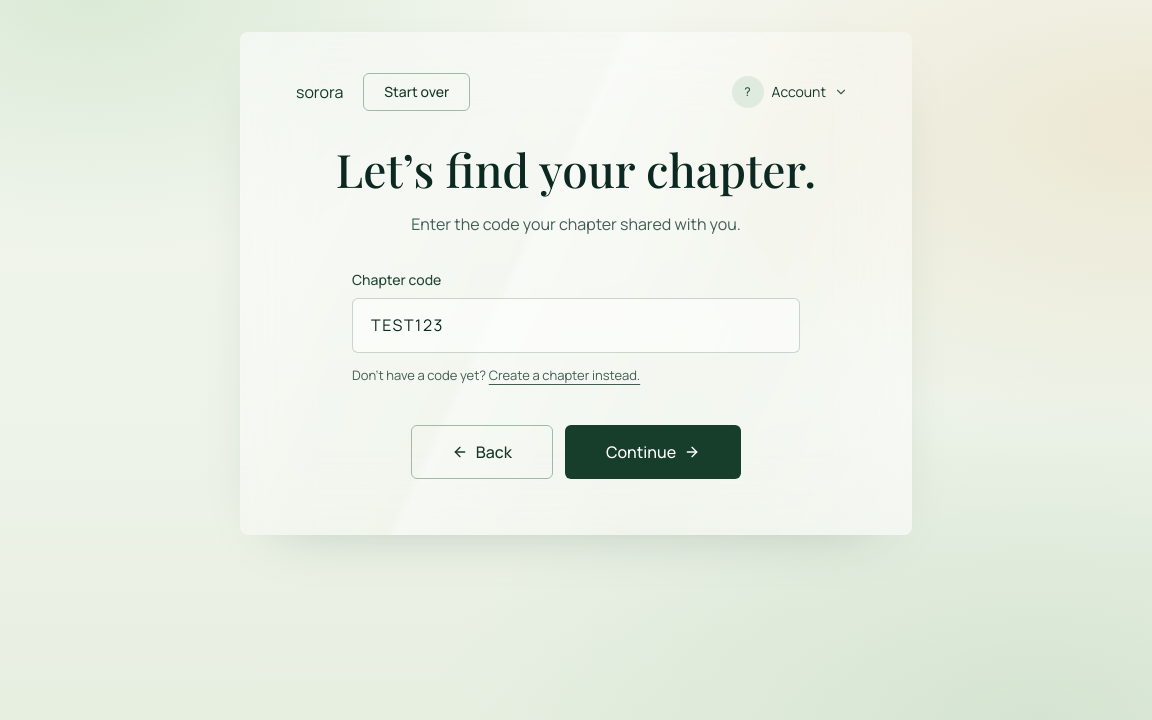
Test: join stays disabled while saving and recovers after network failure
Click the button "Continue" at (653, 452), box left=565, top=425, right=741, bottom=479
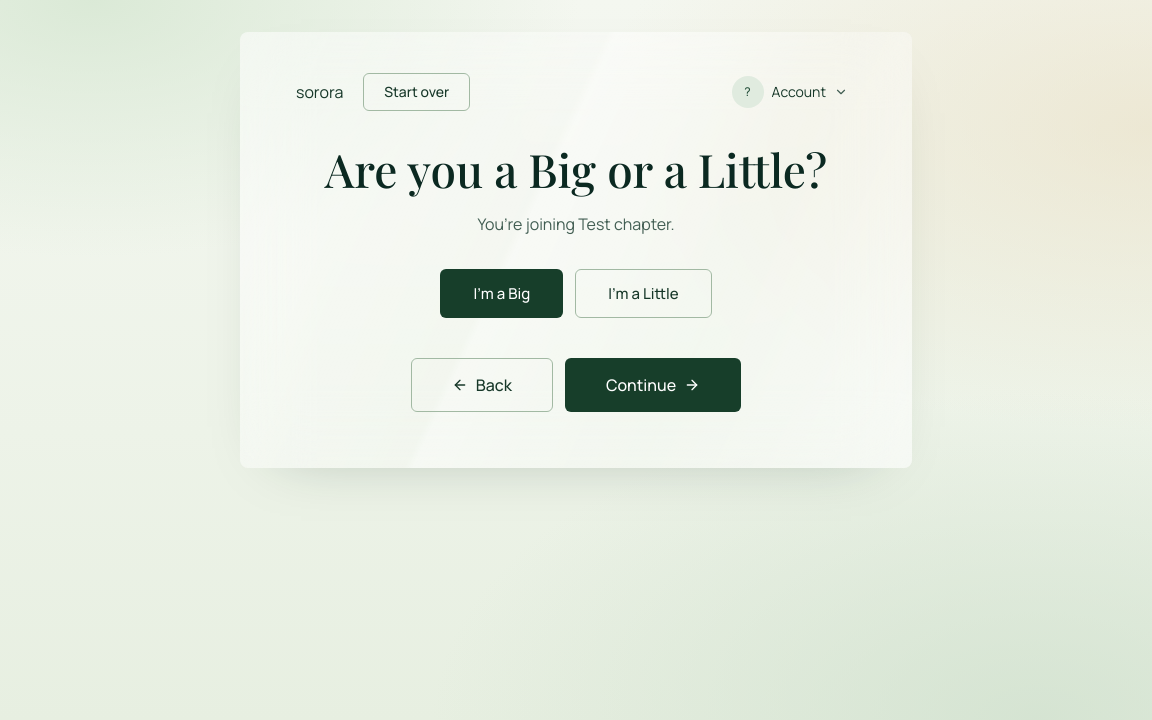
Expected: the heading "Are you a Big or a Little?" is shown, left=325, top=144, right=827, bottom=195
Click the button "Continue" at (653, 385), box left=565, top=358, right=741, bottom=412
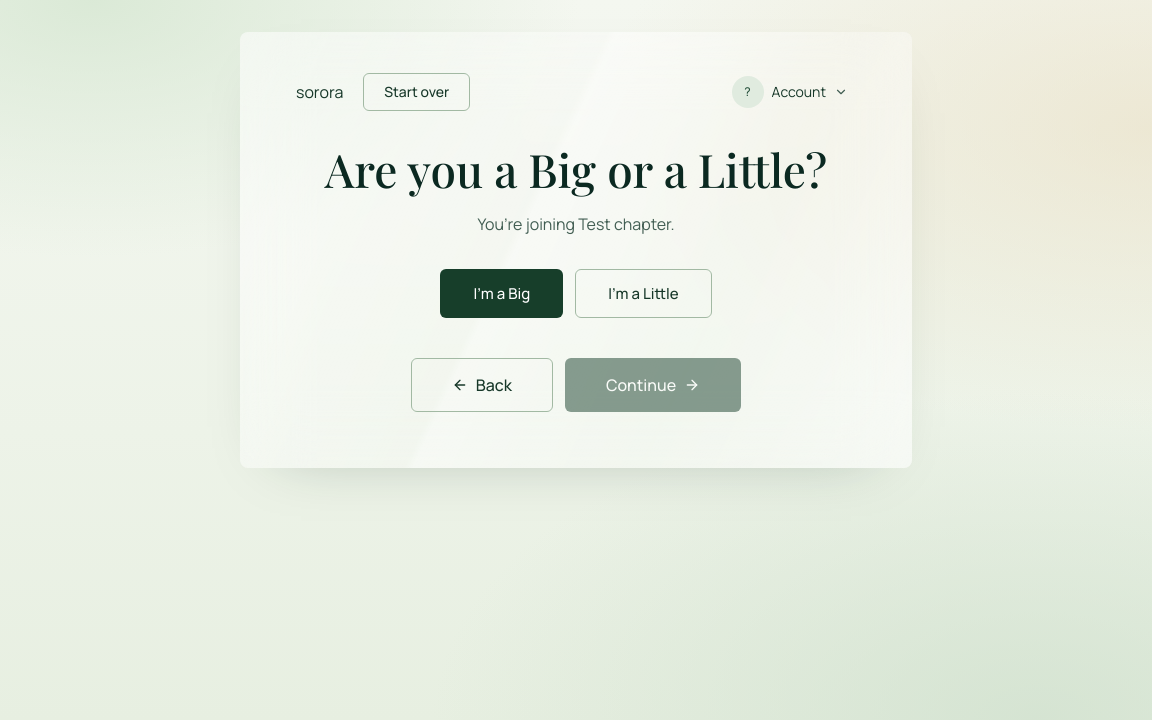
Expected: the button "Continue" is disabled
Click the button "Continue" at (653, 385), box left=565, top=358, right=741, bottom=412
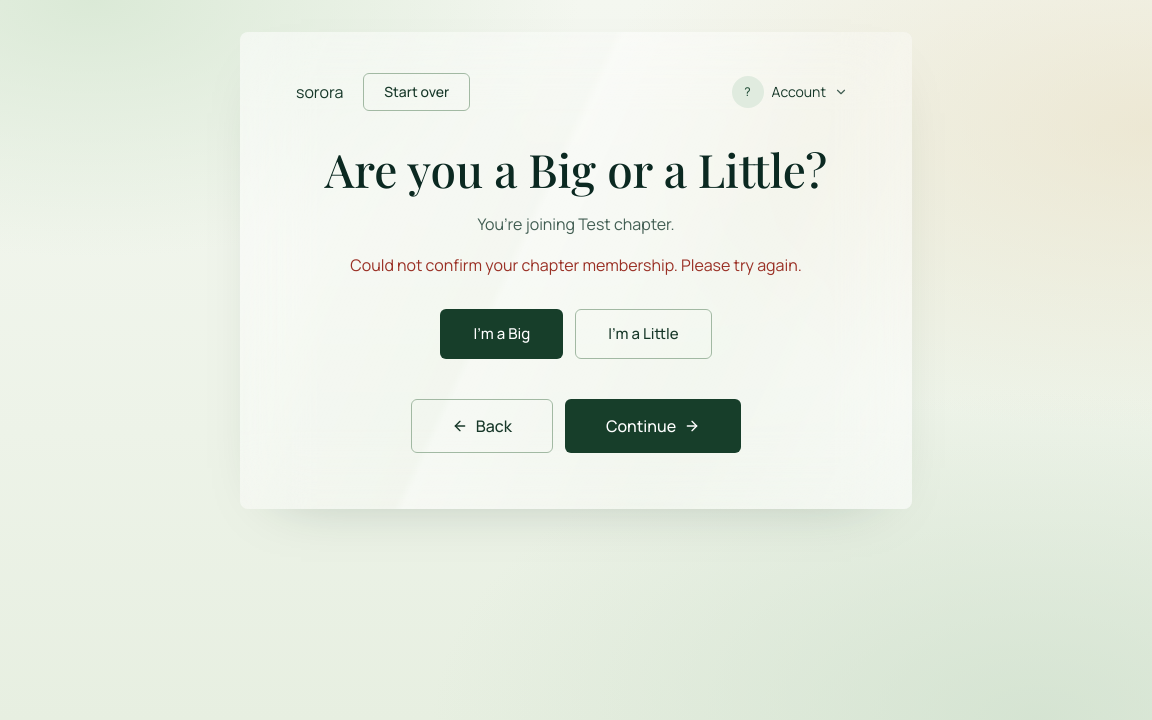
Expected: the text "Could not confirm your chapter membership. Please try again." is shown, left=350, top=253, right=802, bottom=277
Expected: the button "Continue" is enabled, left=565, top=399, right=741, bottom=453
